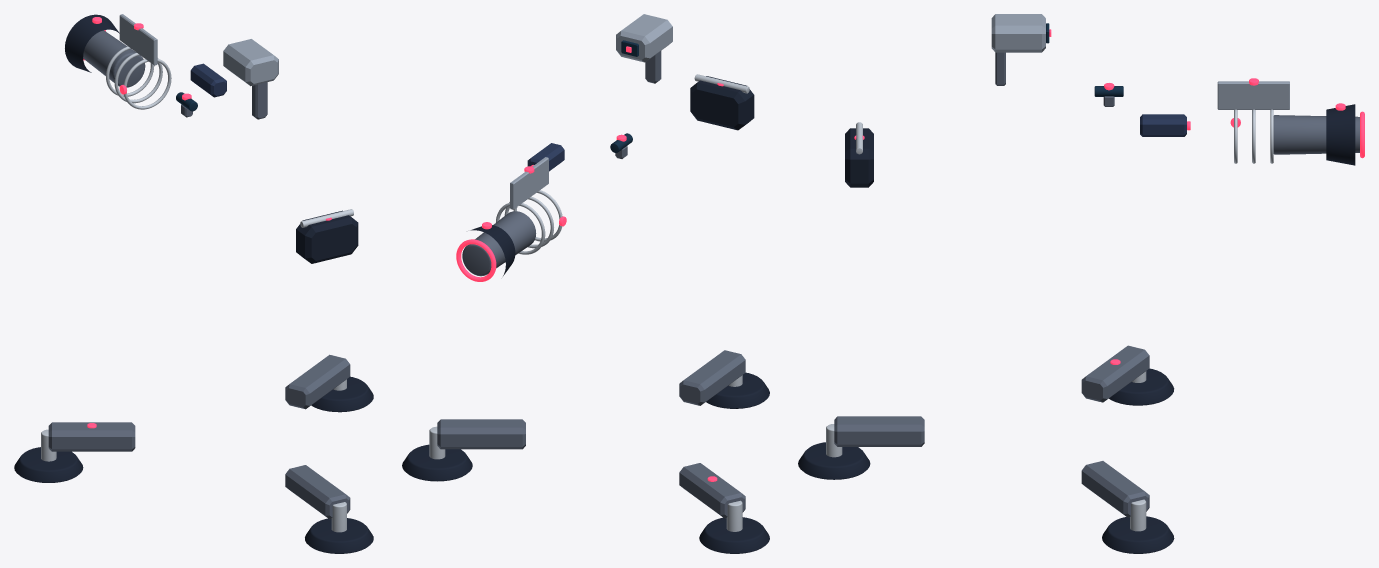
Rendered from tower_filament_optics_s10.glb.
3 views of the same model, side by side, from view 1: azimuth 30°, elevation 25°; view 2: azimuth 150°, elevation 25°; view 3: azimuth 270°, elevation 25° (orthographic). The views are drawn at different scales.
Parts seen in each view (by area): view 1: filament_outrigger_arm0, filament_counterweight, filament_outrigger_arm1, filament_optics_head, filament_tube_ext, filament_outrigger_arm2, filament_outrigger_pad2, filament_outrigger_pad0, filament_outrigger_pad1, filament_lens_hood, filament_stab_fin, filament_rangefinder (+4 smaller); view 2: filament_outrigger_arm1, filament_counterweight, filament_tube_ext, filament_outrigger_arm2, filament_outrigger_arm0, filament_outrigger_pad0, filament_outrigger_pad1, filament_optics_head, filament_outrigger_pad2, filament_stab_fin, filament_lens_hood, filament_tube_ext_ring (+2 smaller); view 3: filament_outrigger_arm2, filament_tube_ext, filament_outrigger_arm0, filament_optics_head, filament_stab_fin, filament_outrigger_arm1, filament_outrigger_pad1, filament_outrigger_pad2, filament_lens_hood, filament_counterweight, filament_outrigger_pad0, filament_rangefinder.
Boxes of the visible parts, left/top/right/bottom form: filament_outrigger_arm0: left=48, top=422, right=135, bottom=451; filament_counterweight: left=296, top=210, right=358, bottom=263; filament_outrigger_arm1: left=285, top=354, right=350, bottom=409; filament_optics_head: left=223, top=39, right=278, bottom=86; filament_tube_ext: left=83, top=30, right=145, bottom=87; filament_outrigger_arm2: left=285, top=465, right=350, bottom=519; filament_outrigger_pad2: left=305, top=518, right=373, bottom=553; filament_outrigger_pad0: left=14, top=447, right=83, bottom=482; filament_outrigger_pad1: left=311, top=376, right=373, bottom=412; filament_lens_hood: left=65, top=14, right=119, bottom=72; filament_stab_fin: left=119, top=14, right=157, bottom=65; filament_rangefinder: left=190, top=63, right=226, bottom=97; filament_outrigger_arm1: left=437, top=419, right=525, bottom=449; filament_counterweight: left=690, top=76, right=754, bottom=130; filament_tube_ext: left=462, top=211, right=536, bottom=276; filament_outrigger_arm2: left=679, top=350, right=745, bottom=405; filament_outrigger_arm0: left=679, top=463, right=745, bottom=518; filament_outrigger_pad0: left=699, top=517, right=769, bottom=553; filament_outrigger_pad1: left=402, top=444, right=472, bottom=481; filament_optics_head: left=616, top=14, right=672, bottom=62; filament_outrigger_pad2: left=706, top=372, right=769, bottom=408; filament_stab_fin: left=510, top=157, right=548, bottom=209; filament_lens_hood: left=470, top=225, right=515, bottom=275; filament_tube_ext_ring: left=456, top=239, right=496, bottom=281; filament_outrigger_arm2: left=834, top=416, right=924, bottom=446; filament_tube_ext: left=1273, top=115, right=1359, bottom=154; filament_outrigger_arm0: left=1081, top=345, right=1149, bottom=402; filament_optics_head: left=991, top=14, right=1045, bottom=52; filament_stab_fin: left=1217, top=81, right=1289, bottom=109; filament_outrigger_arm1: left=1081, top=461, right=1149, bottom=517; filament_outrigger_pad1: left=1102, top=516, right=1174, bottom=553; filament_outrigger_pad2: left=798, top=442, right=870, bottom=479; filament_lens_hood: left=1326, top=104, right=1355, bottom=165; filament_counterweight: left=845, top=128, right=873, bottom=187; filament_outrigger_pad0: left=1109, top=368, right=1174, bottom=405; filament_rangefinder: left=1140, top=114, right=1186, bottom=136.
Bounding box in the file's own units: 2.34 × 2.72 × 3.13.
